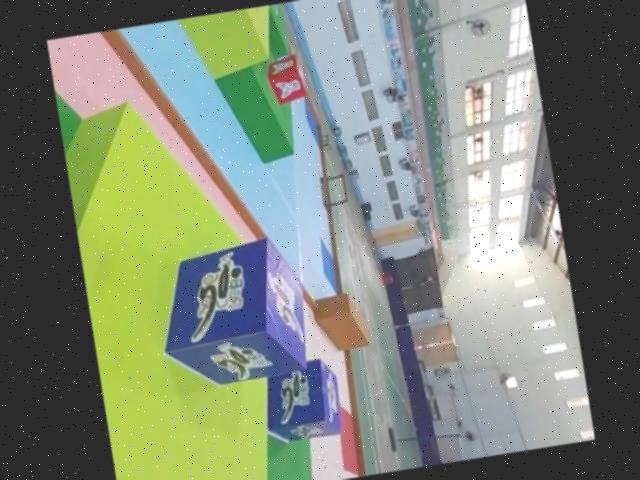R1 Blue: (146, 232, 315, 392), (255, 356, 345, 448)
